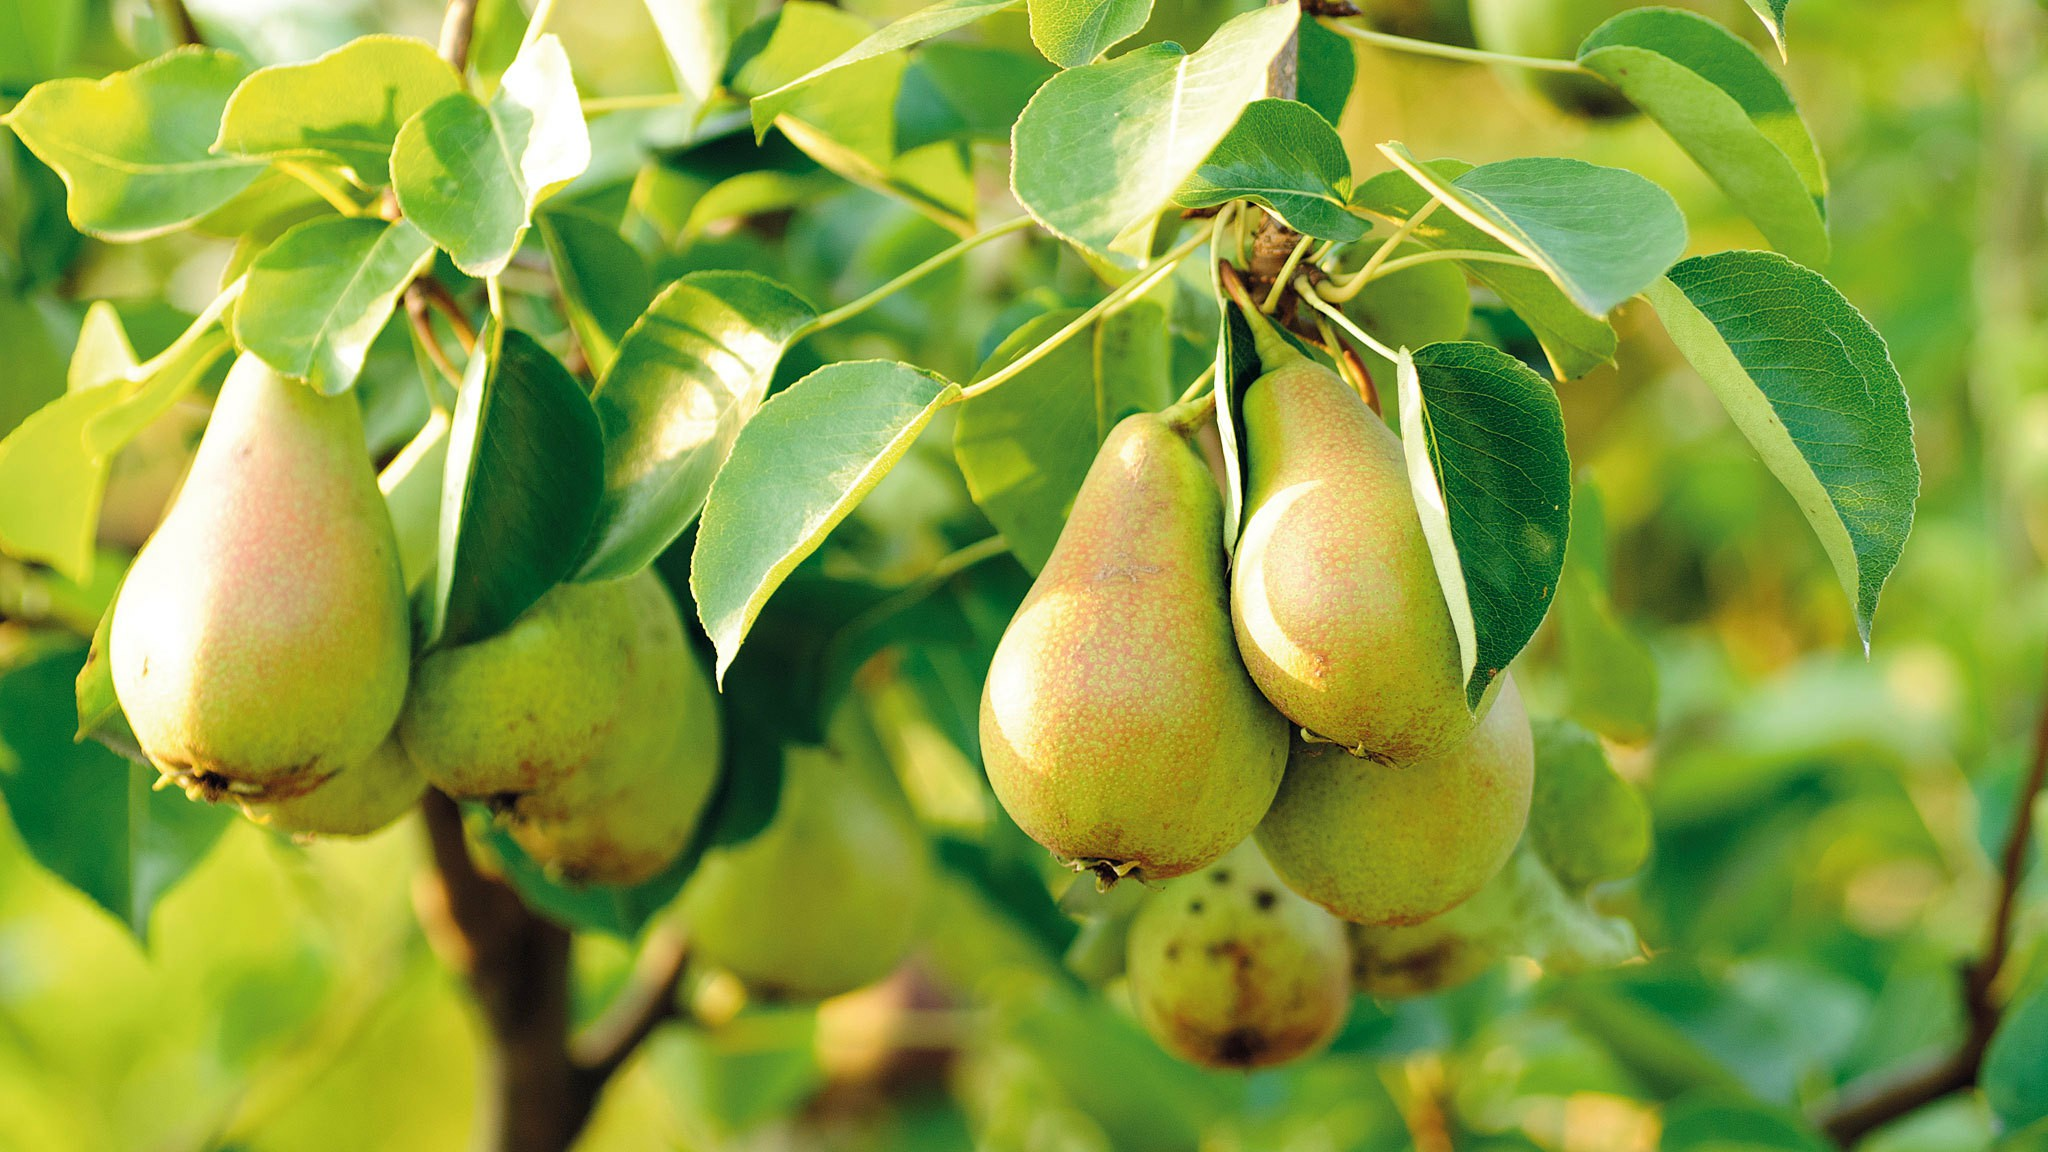pear: (978, 409, 1295, 883), (392, 463, 722, 892), (111, 335, 411, 798), (1231, 353, 1505, 760), (1246, 620, 1535, 926), (686, 736, 928, 997)
